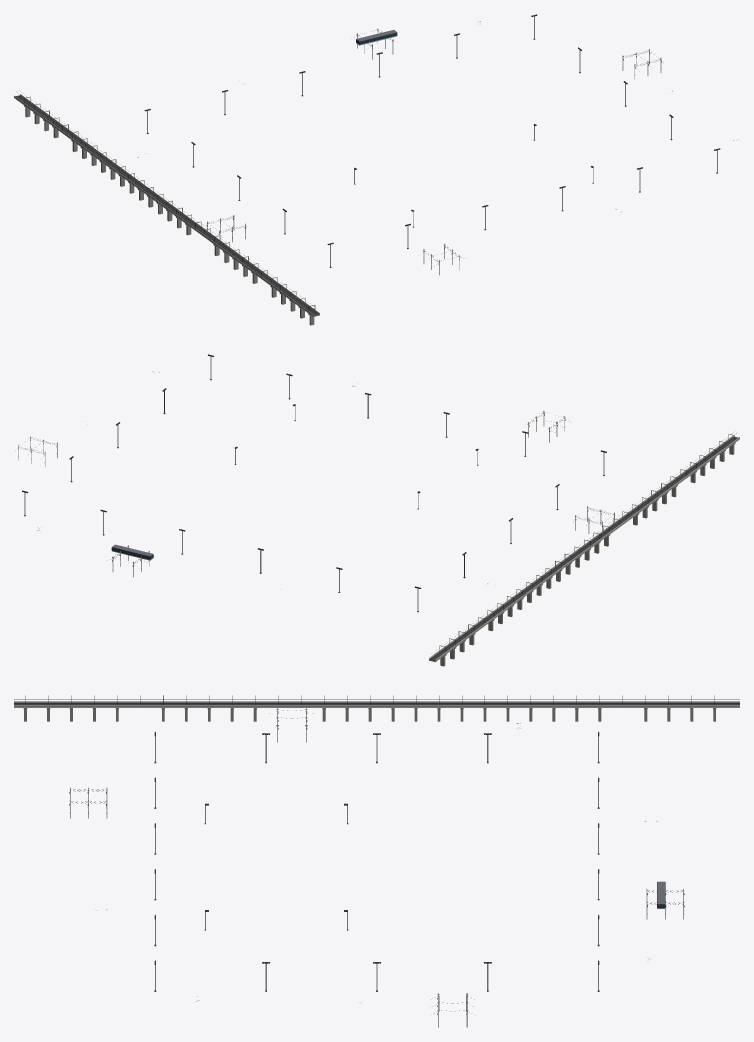
File: HEX_City_07_STRUCTURES.fbx
3 views of the same model, one above another, from view 1: azimuth 30°, elevation 25°; view 2: azimuth 150°, elevation 25°; view 3: azimuth 270°, elevation 25° (orthographic). The views are drawn at different scales.
Visible parts, largest first — view 1: RailViaduct_West; view 2: RailViaduct_West; view 3: RailViaduct_West.
Part boxes in pixels (bbox=[...]): RailViaduct_West: bbox=[14, 91, 319, 325]; RailViaduct_West: bbox=[429, 433, 739, 666]; RailViaduct_West: bbox=[14, 695, 739, 721].
Bounding box in the file's own units: 1276 × 57.2 × 1264.
Materials: 1 (1 with a texture image).
